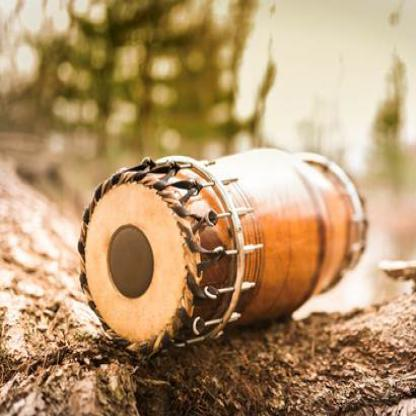Mridangam: (73, 135, 378, 363)
